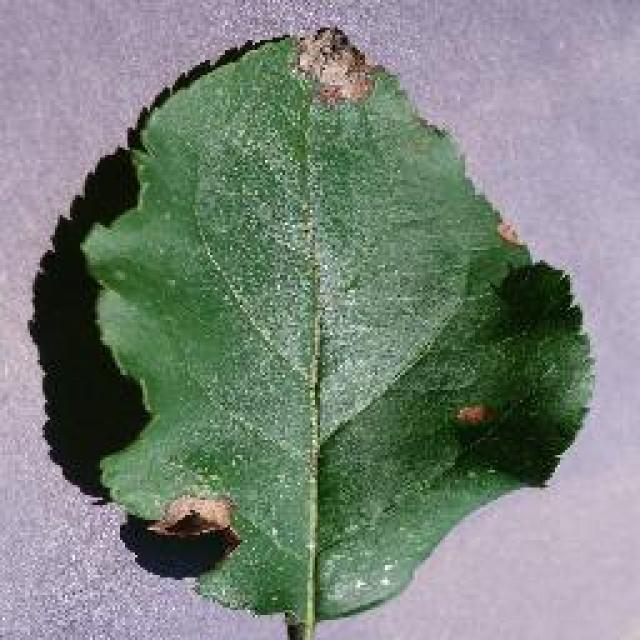Black_rot: (75, 25, 595, 637)
